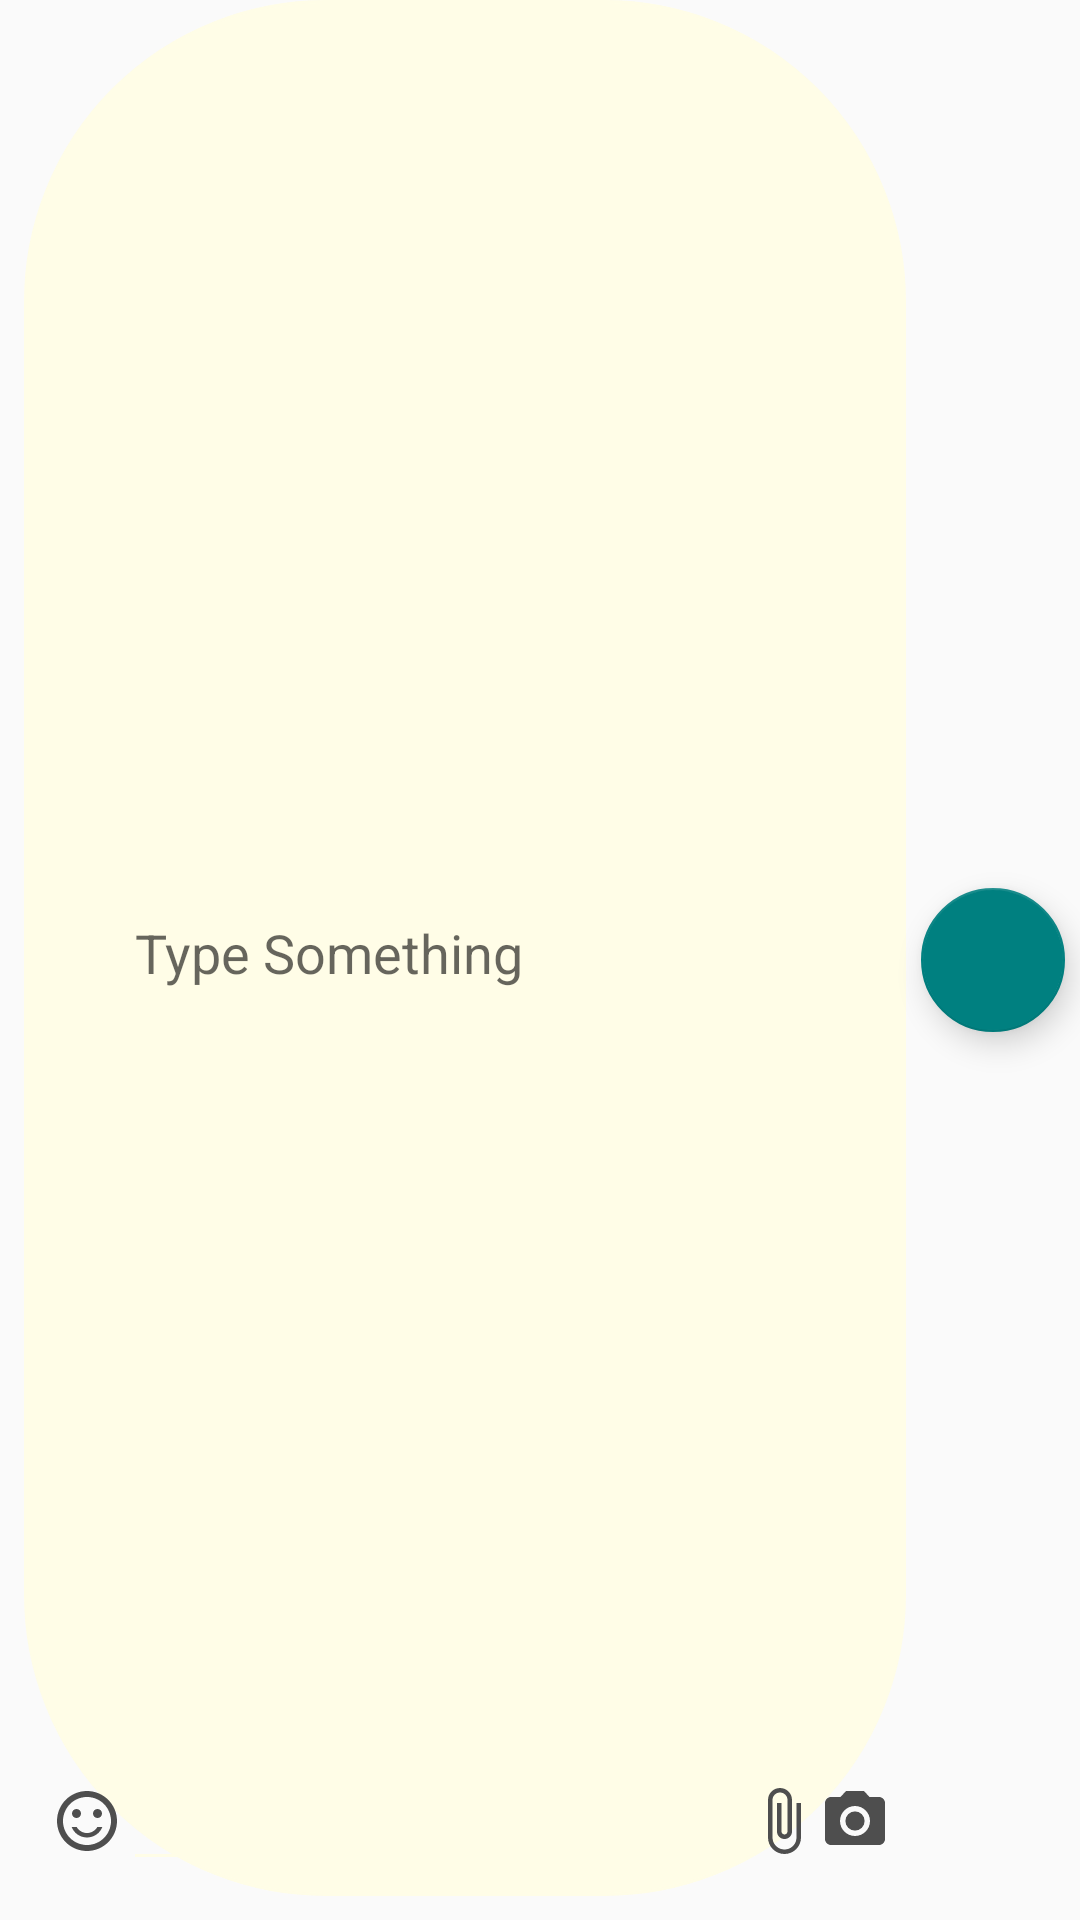

Point at icon controls on the screen. Image size 1080×1920, points as point (x, y).
attach file: point (784, 1821)
camera: point (855, 1818)
sentiment satisfied: point (87, 1821)
